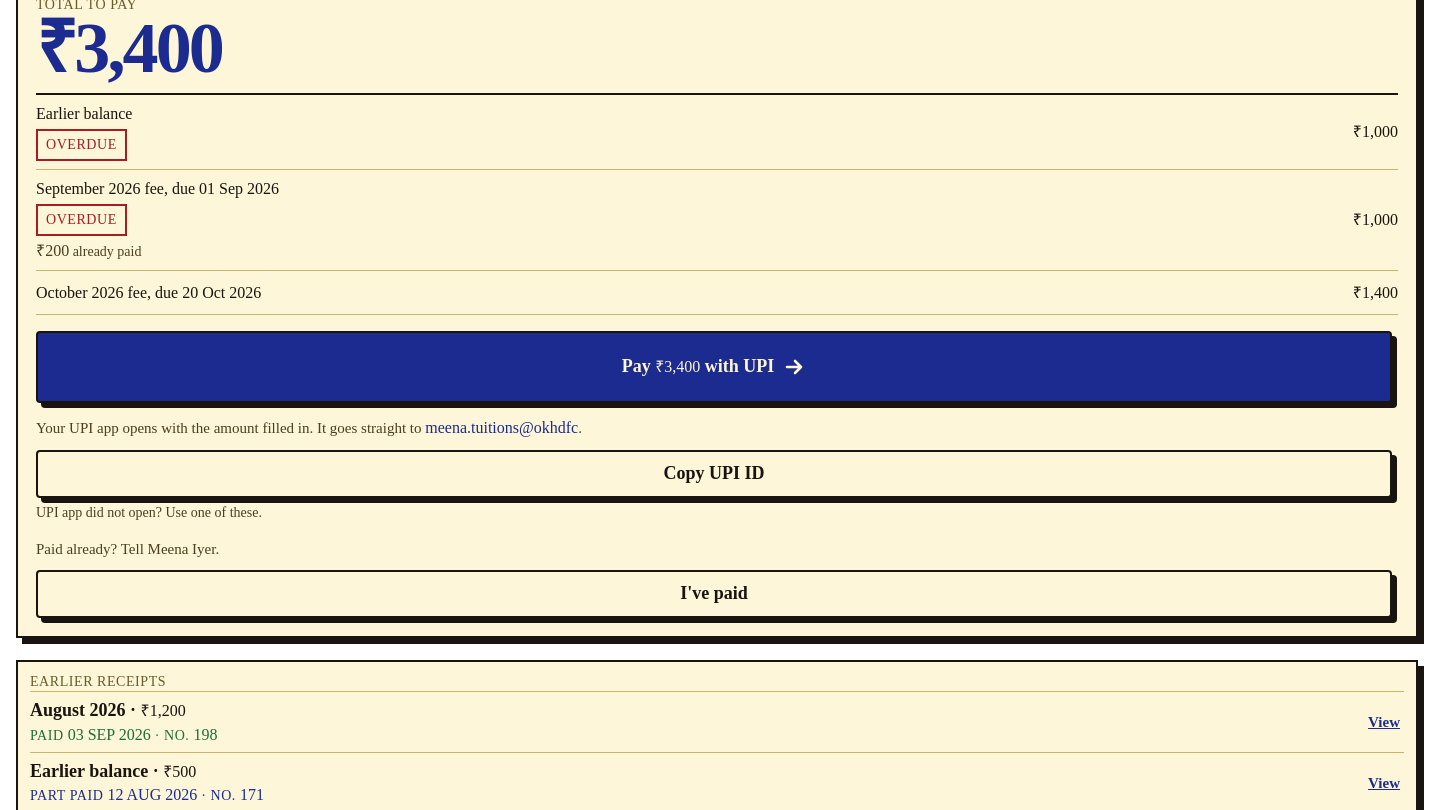
Test case: FeeScreen › opens the claim sheet on tap, with no request, and sends only through sendClaim
This screenshot has width=1440, height=810.
Click the button "I've paid": click(714, 594) top-left (36, 570), bottom-right (1392, 618)
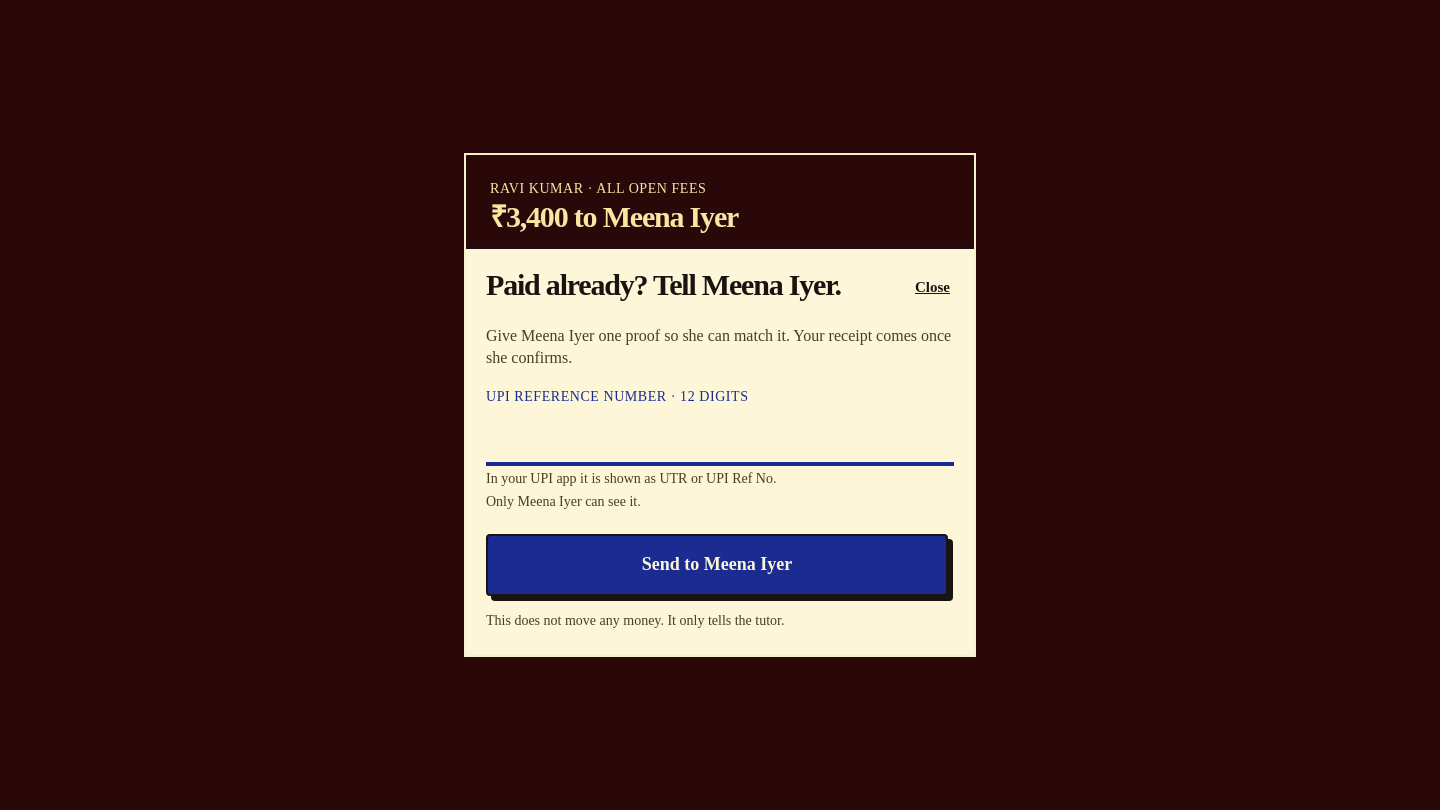
Expected: the dialog is shown, top-left (464, 153), bottom-right (976, 657)
Expected: the text box labelled "UPI reference number · 12 digits" is shown, top-left (486, 407), bottom-right (954, 462)
